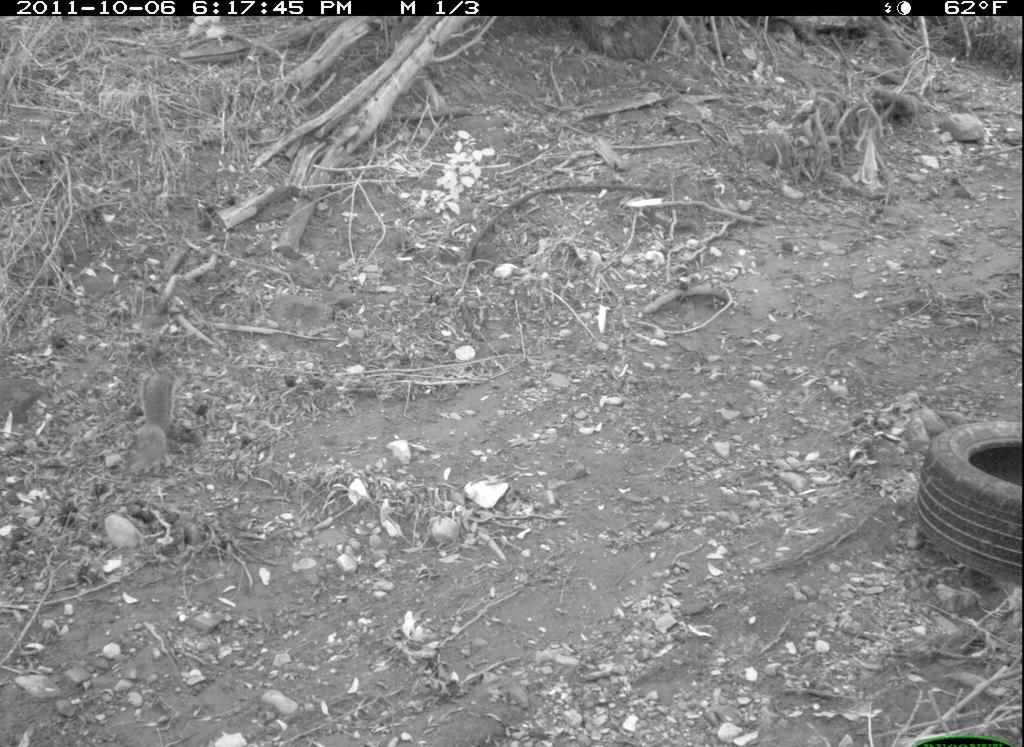squirrel: (127, 368, 177, 492)
